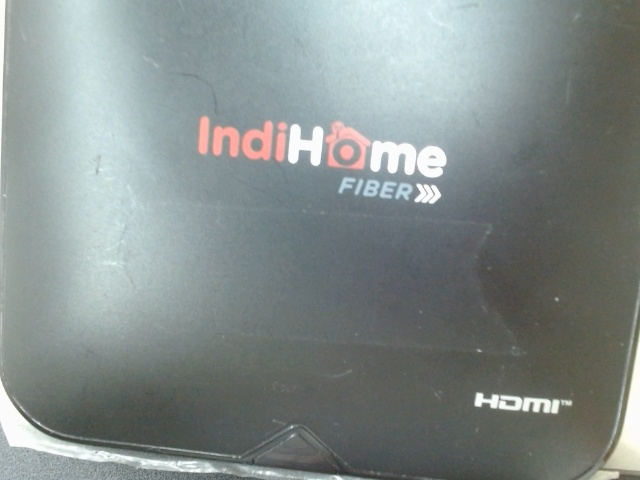AF_IndiHome: (178, 101, 454, 210)
